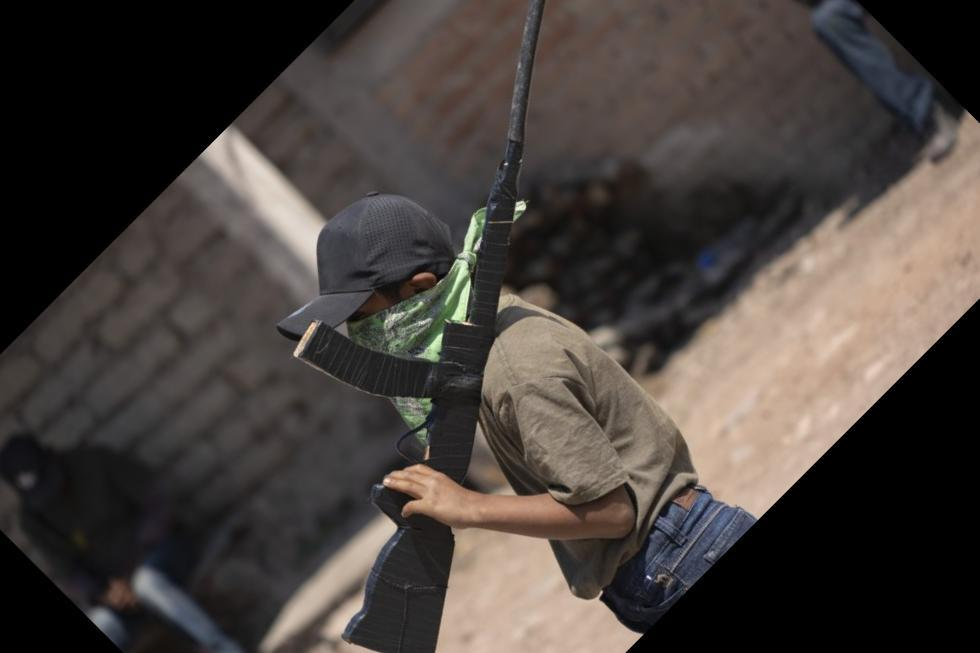larga: (293, 0, 555, 653)
